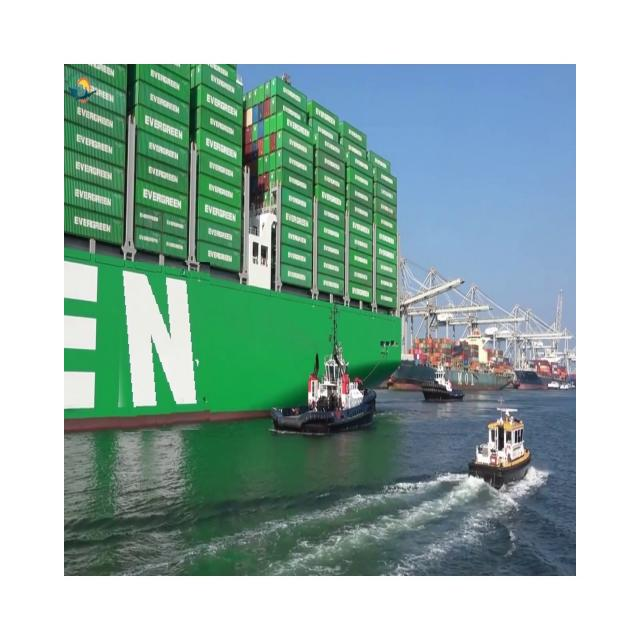OCR: (104, 262, 210, 432)
